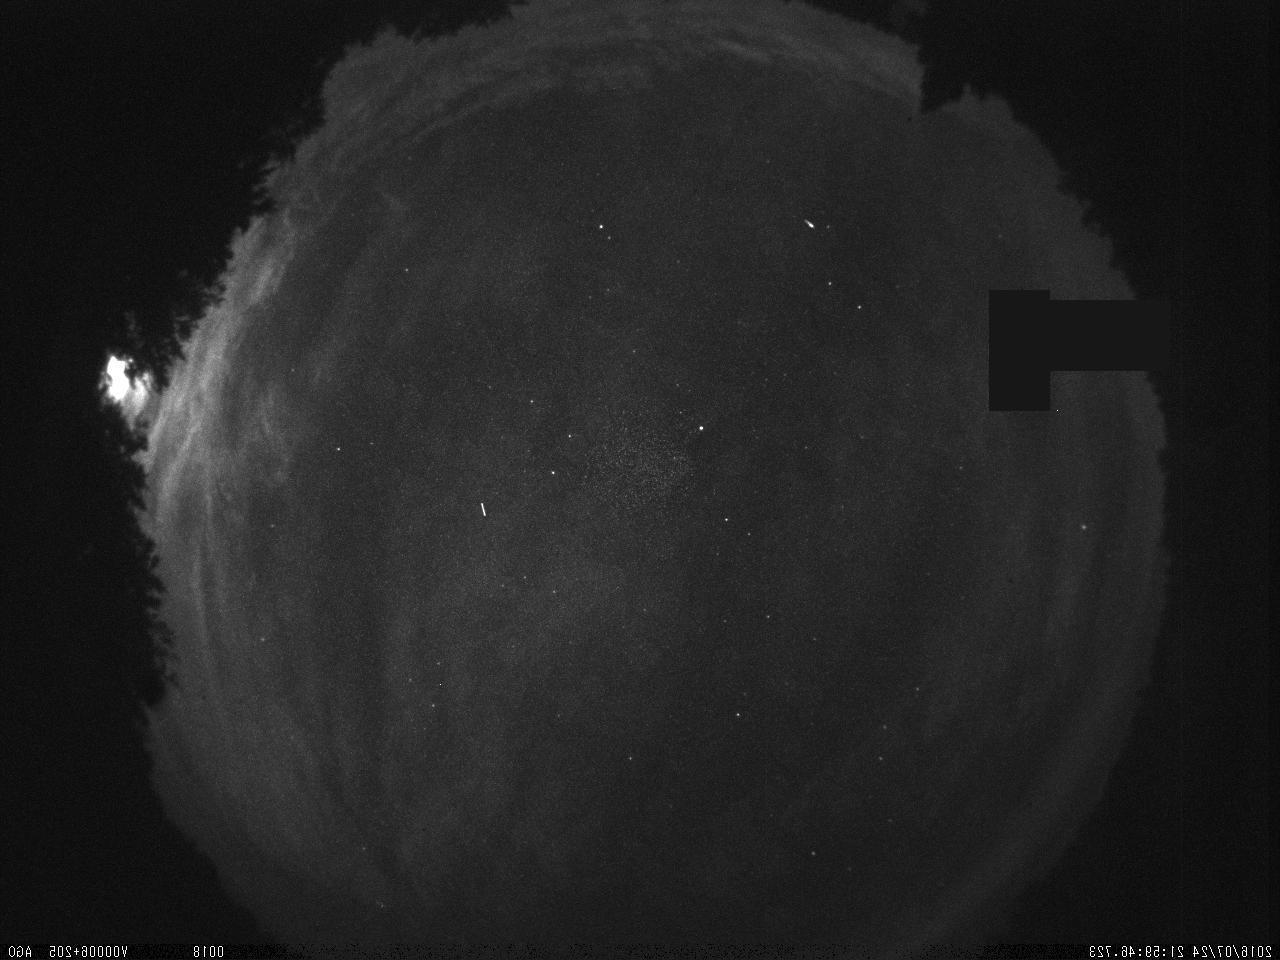meteor: (798, 215, 822, 232)
satelite: (477, 496, 491, 521)
